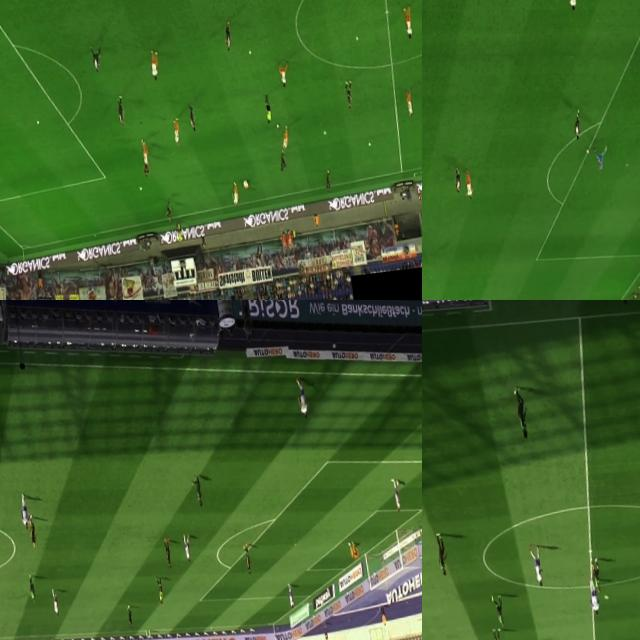ball: (601, 591, 610, 602), (585, 147, 590, 155), (347, 540, 352, 548), (36, 117, 40, 125), (368, 138, 372, 146), (354, 34, 358, 42), (139, 185, 144, 191), (322, 130, 327, 136), (248, 49, 253, 54), (277, 125, 279, 128)
player: (514, 383, 528, 442), (591, 138, 611, 174), (530, 544, 544, 590), (295, 378, 310, 419), (460, 165, 476, 200), (16, 492, 32, 526), (436, 535, 448, 579), (588, 580, 600, 620), (27, 512, 39, 549), (493, 594, 505, 631), (570, 104, 582, 140), (590, 560, 602, 596), (392, 477, 404, 512), (278, 58, 292, 86), (27, 572, 38, 604), (224, 20, 235, 51), (242, 541, 252, 575), (148, 50, 160, 78), (162, 538, 173, 568), (182, 534, 193, 564), (91, 47, 104, 72), (403, 6, 413, 38), (116, 95, 126, 126), (452, 162, 462, 193), (140, 136, 150, 166), (142, 150, 152, 177), (280, 124, 290, 151), (345, 81, 355, 108), (51, 589, 60, 619), (172, 116, 181, 145), (188, 102, 197, 131), (194, 476, 202, 508), (124, 604, 134, 629), (286, 584, 295, 611), (349, 542, 360, 563), (323, 166, 332, 191), (231, 180, 240, 204), (164, 198, 173, 220), (406, 90, 414, 114), (491, 626, 504, 640), (278, 150, 286, 171), (564, 0, 577, 11), (145, 629, 152, 640), (242, 178, 249, 188)
